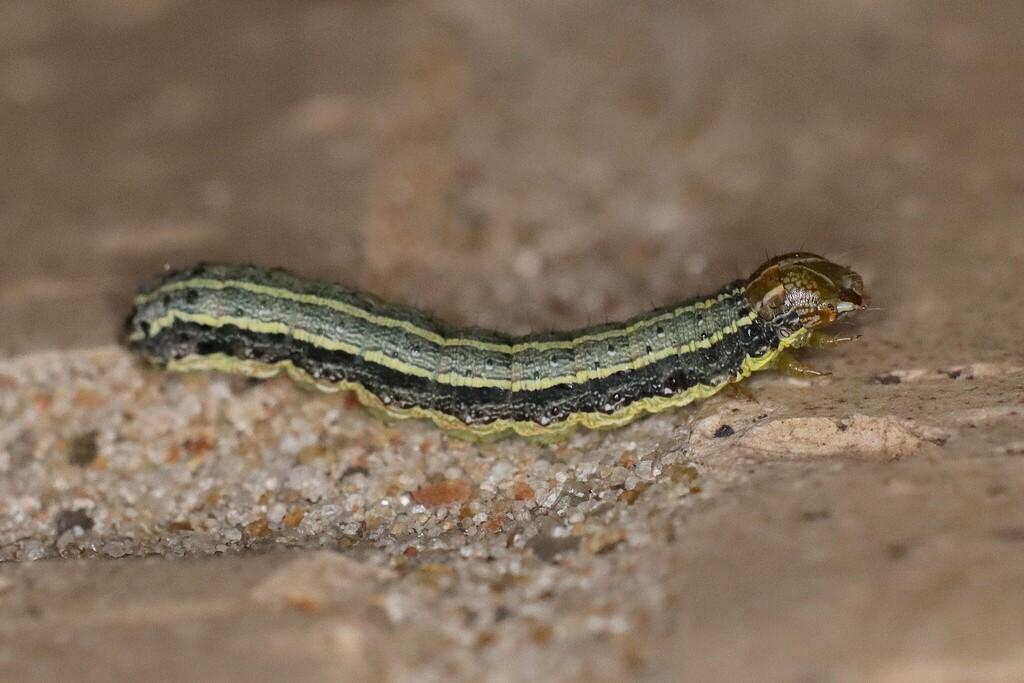caterpillars: (49, 181, 955, 528)
